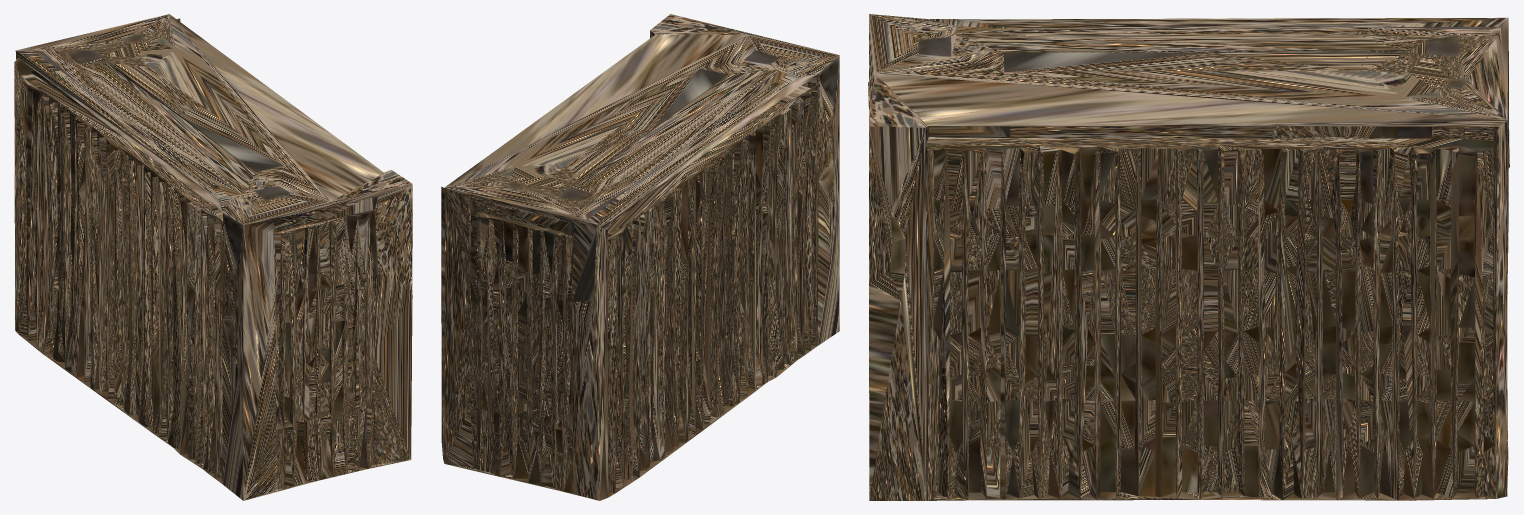
File: c02_far.glb
3 views of the same model, side by side, from view 1: azimuth 30°, elevation 25°; view 2: azimuth 150°, elevation 25°; view 3: azimuth 270°, elevation 25° (orthographic). The views are drawn at different scales.
Visible parts, largest first — view 1: c02_far; view 2: c02_far; view 3: c02_far.
Part boxes in pixels (bbox=[...]): c02_far: bbox=[14, 14, 412, 500]; c02_far: bbox=[441, 14, 839, 500]; c02_far: bbox=[868, 14, 1509, 500].
Size of the model in its own units: 33.39 by 52 by 79.35.
1 material, 1 textured.
